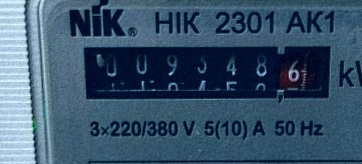0: (103, 52, 119, 78), (134, 49, 148, 75)
3: (195, 50, 209, 75)
4: (222, 47, 240, 78)
6: (285, 55, 302, 84)
8: (254, 50, 269, 78)
9: (165, 52, 179, 79)
screen: (66, 31, 345, 111)
